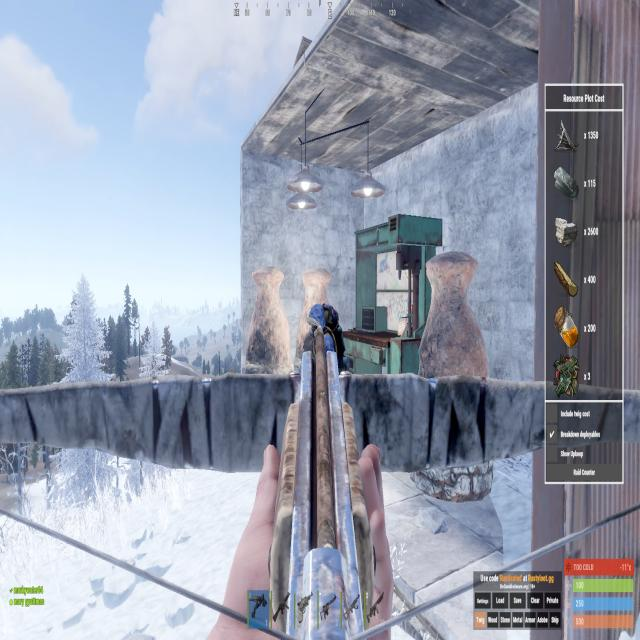Player: (307, 300, 347, 376)
